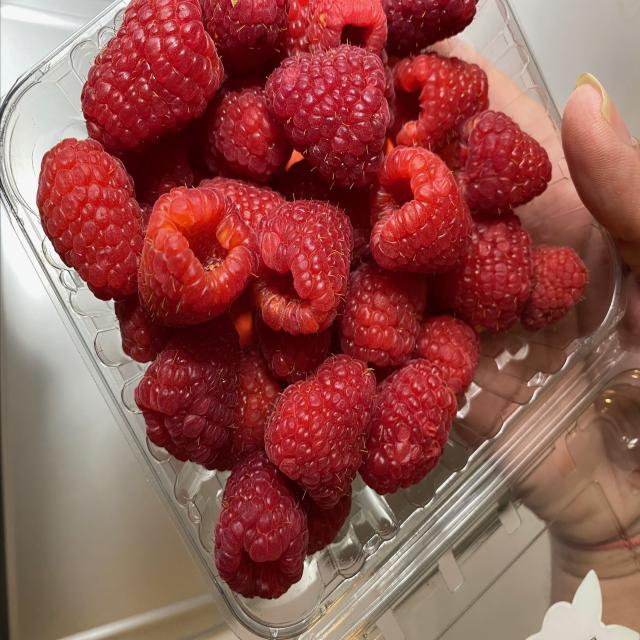raspberries: (62, 33, 561, 534)
